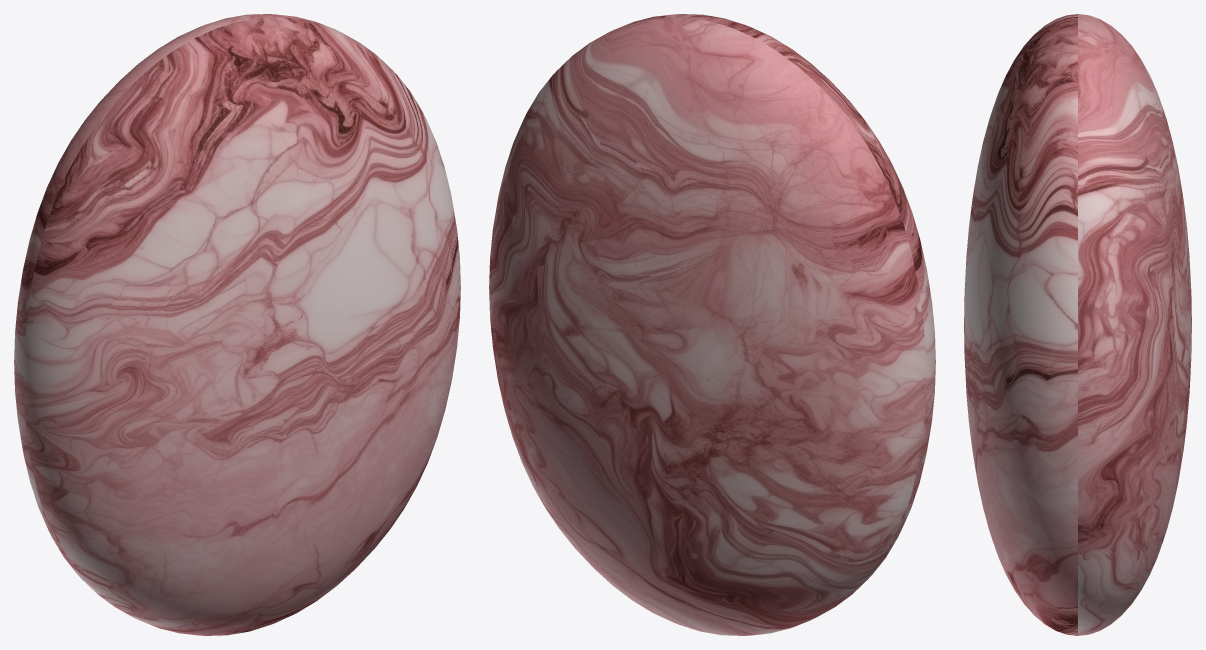
Rendered from Rodonit.fbx.
The picture shows the model from 3 angles, left to right: view 1: azimuth 30°, elevation 25°; view 2: azimuth 150°, elevation 25°; view 3: azimuth 270°, elevation 25°; orthographic projection. The views are drawn at different scales.
Parts seen in each view (by area): view 1: Rodonit; view 2: Rodonit; view 3: Rodonit.
Part boxes in pixels (x1=…): Rodonit: x1=14, y1=14, x2=460, y2=635; Rodonit: x1=489, y1=14, x2=935, y2=635; Rodonit: x1=964, y1=14, x2=1191, y2=635.
Size of the model in its own units: 0.1398 by 0.1893 by 0.0666.
1 material, 1 textured.
